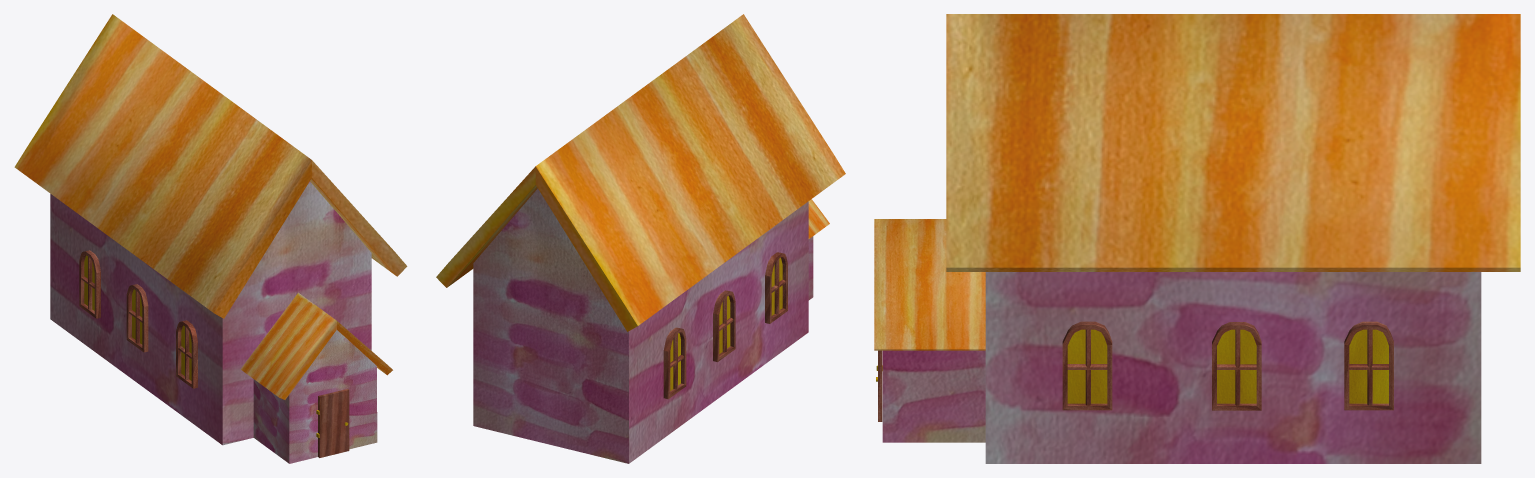
The model's file is BaconHouse.fbx.
3 renders of one model, left to right at view 1: azimuth 30°, elevation 25°; view 2: azimuth 150°, elevation 25°; view 3: azimuth 270°, elevation 25°, orthographic. The views are drawn at different scales.
Parts seen in each view (by area): view 1: pasted__group12_pasted__pasted__pasted__pasted__pCube2; view 2: pasted__group12_pasted__pasted__pasted__pasted__pCube2; view 3: pasted__group12_pasted__pasted__pasted__pasted__pCube2.
Part boxes in pixels (left/top/right/bottom): pasted__group12_pasted__pasted__pasted__pasted__pCube2: left=14, top=14, right=407, bottom=463; pasted__group12_pasted__pasted__pasted__pasted__pCube2: left=436, top=14, right=845, bottom=463; pasted__group12_pasted__pasted__pasted__pasted__pCube2: left=874, top=14, right=1520, bottom=463.
Bounding box in the file's own units: 12.98 × 17.74 × 26.08.
